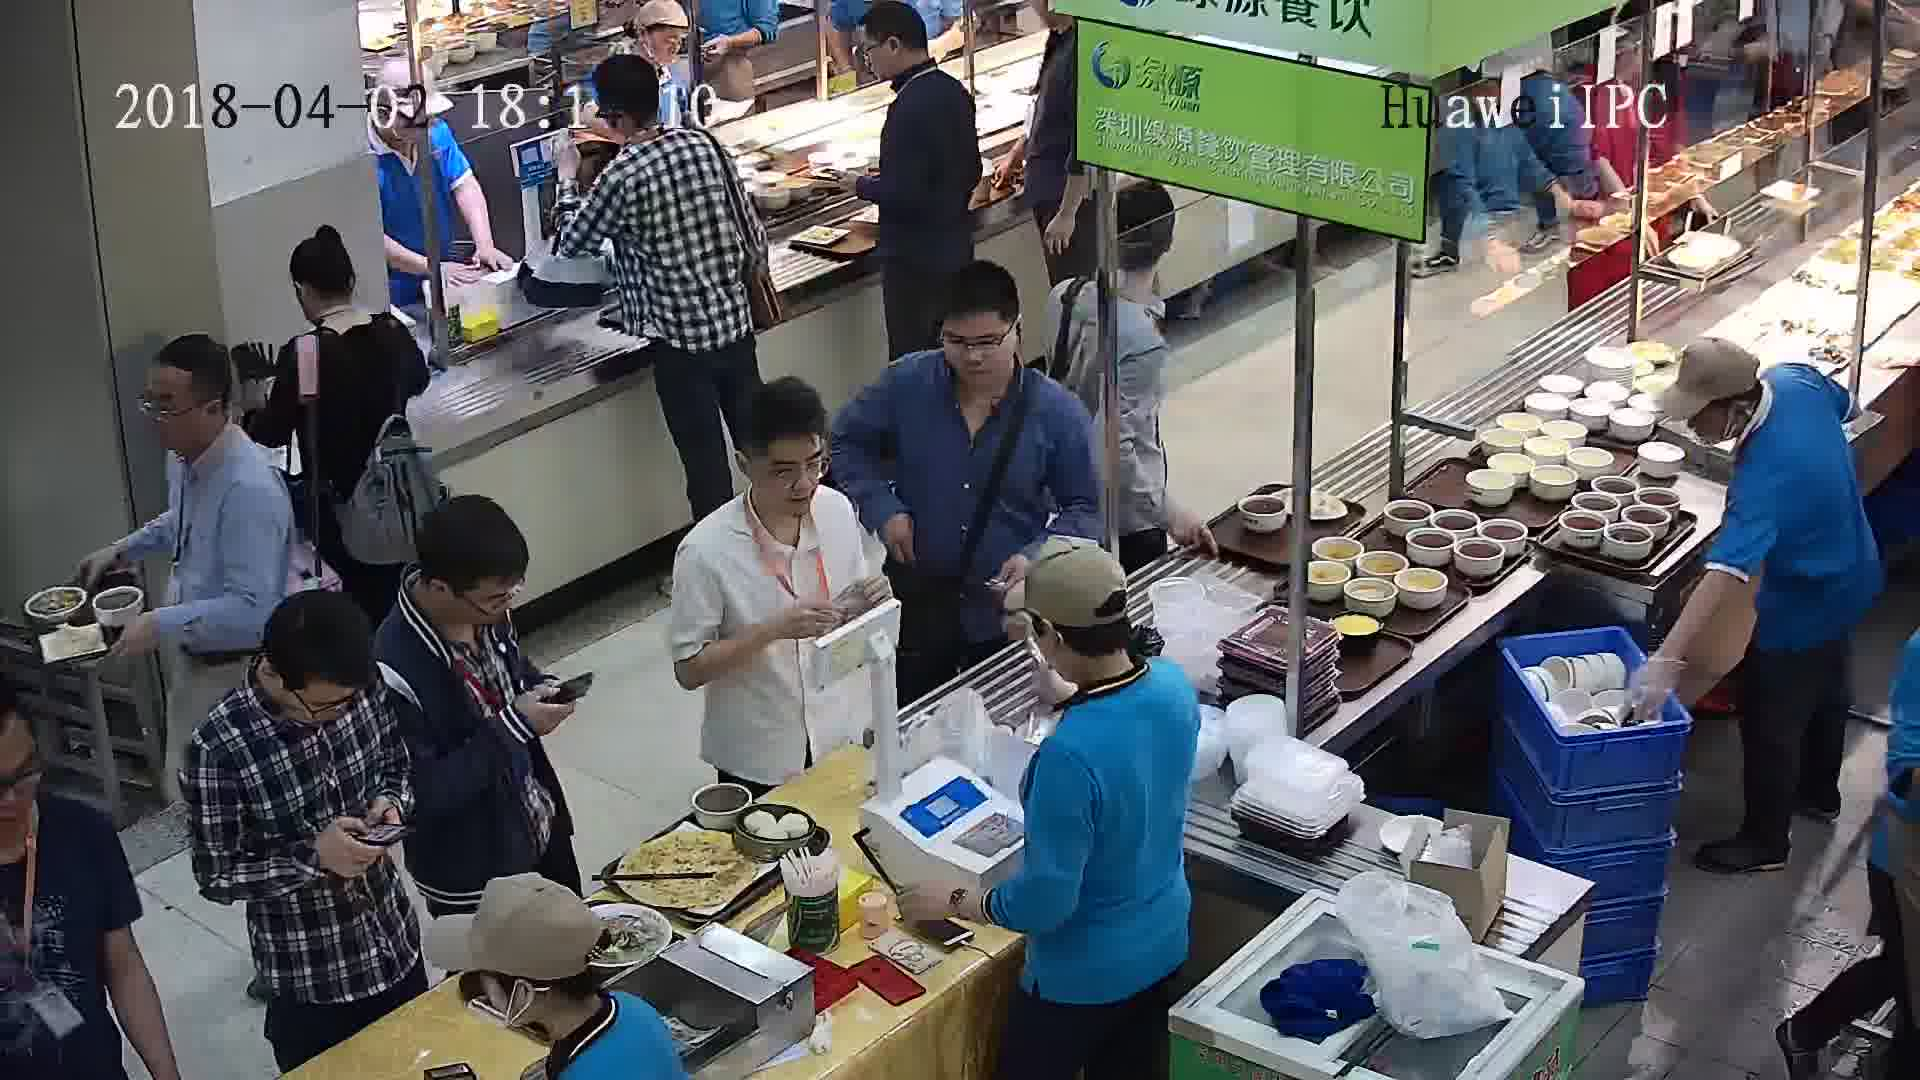face: (741, 429, 830, 518), (140, 361, 219, 457), (937, 310, 1021, 394), (463, 567, 519, 623), (846, 26, 902, 82), (293, 674, 348, 729), (645, 22, 689, 66)
person: (994, 531, 1198, 773), (448, 868, 679, 1079), (857, 259, 1088, 453), (187, 583, 412, 782), (675, 375, 874, 592), (1658, 335, 1864, 513), (370, 496, 531, 713), (1, 659, 133, 894), (143, 328, 293, 533), (1049, 180, 1184, 348), (584, 54, 733, 203), (285, 224, 414, 382), (855, 2, 970, 130), (363, 77, 457, 181), (607, 2, 704, 93)
